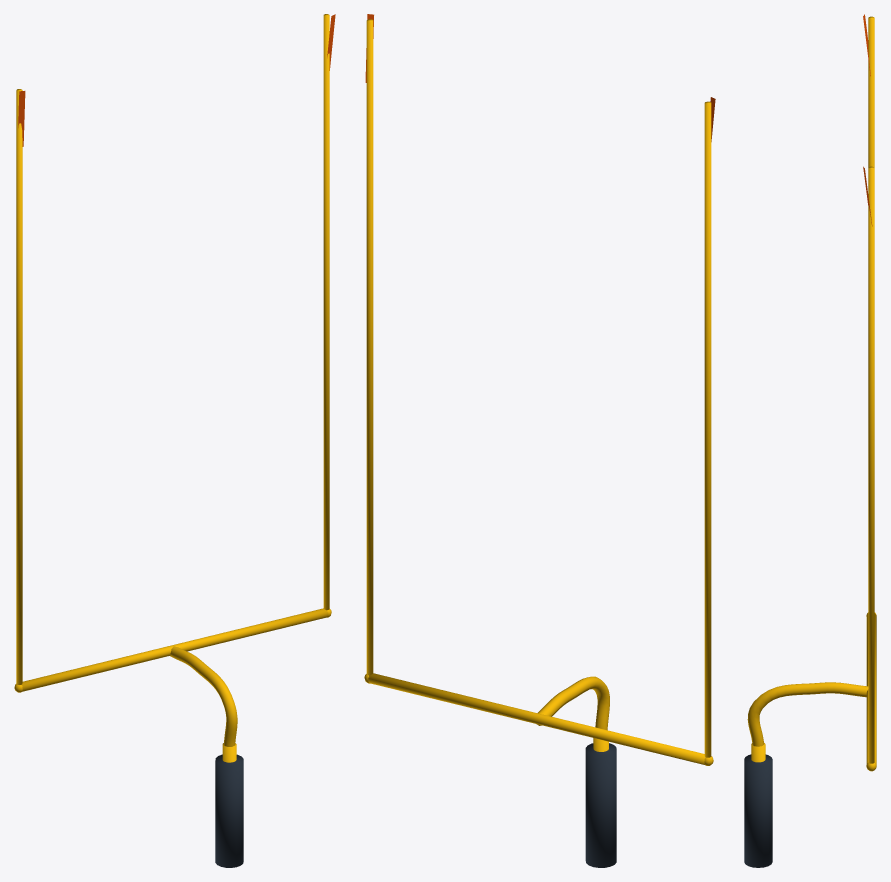
File: goalpost_nfl.glb
3 renders of one model, left to right at view 1: azimuth 30°, elevation 25°; view 2: azimuth 150°, elevation 25°; view 3: azimuth 270°, elevation 25°, orthographic. The views are drawn at different scales.
Visible parts, largest first — view 1: goalpost_nfl__prop_gold, goalpost_nfl__tint_team_primary; view 2: goalpost_nfl__prop_gold, goalpost_nfl__tint_team_primary; view 3: goalpost_nfl__prop_gold, goalpost_nfl__tint_team_primary.
Boxes of the visible parts, x1=… form: goalpost_nfl__prop_gold: x1=14, y1=14, x2=331, y2=762; goalpost_nfl__tint_team_primary: x1=215, y1=754, x2=243, y2=867; goalpost_nfl__prop_gold: x1=364, y1=19, x2=713, y2=765; goalpost_nfl__tint_team_primary: x1=585, y1=743, x2=616, y2=867; goalpost_nfl__prop_gold: x1=747, y1=16, x2=876, y2=771; goalpost_nfl__tint_team_primary: x1=744, y1=754, x2=772, y2=867.
Bounding box in the file's own units: 5.93 × 13.76 × 2.14.
